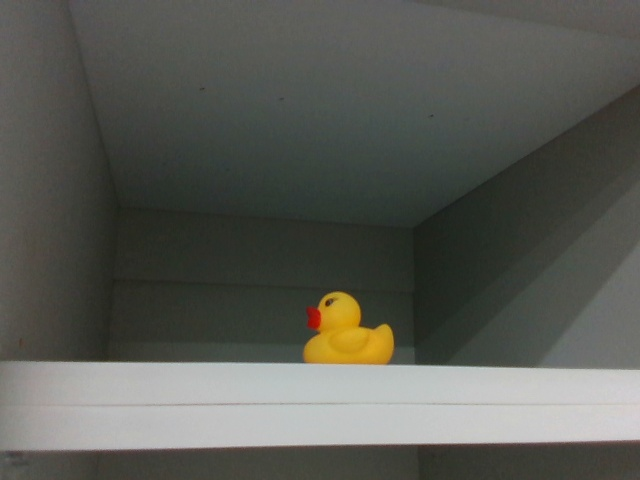duck: (297, 285, 401, 373)
